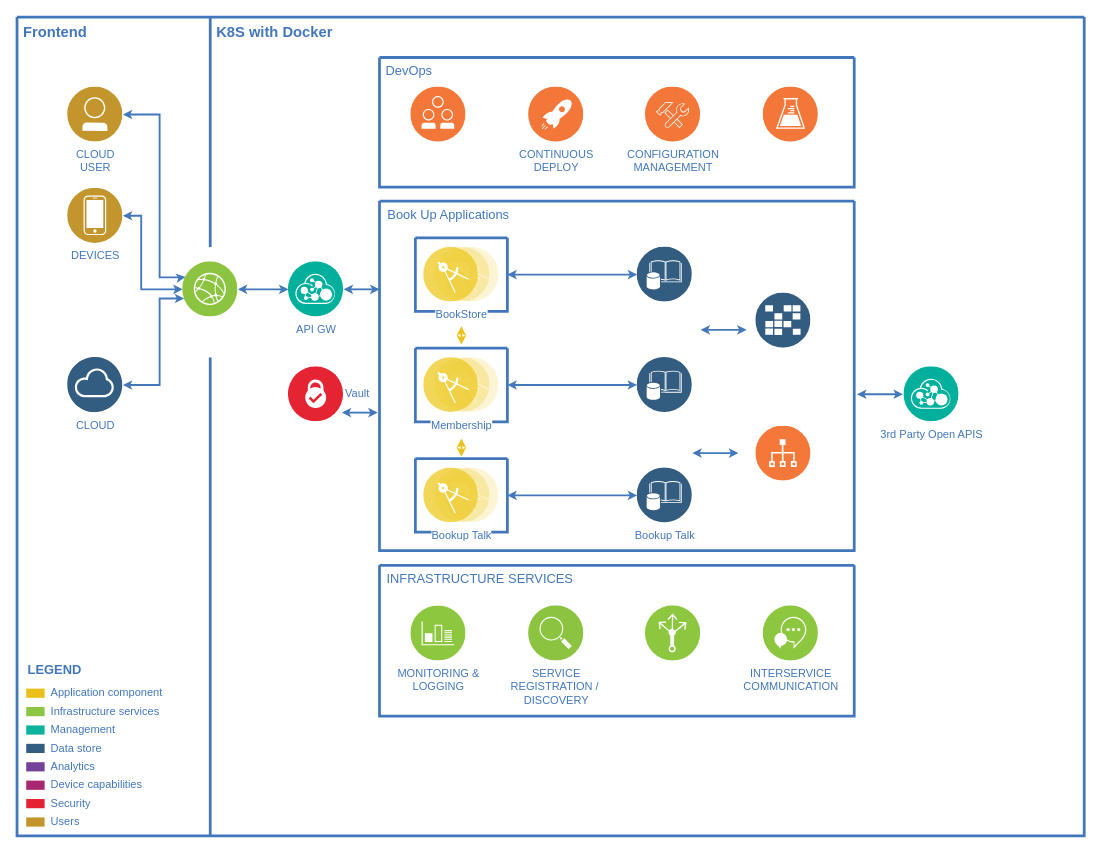
The diagram is 1101 pixels wide and 853 high, and some of its shapes have lost their labels. The shapes that lost their labels are listed below. From the top down, each one's centre as x and y in pixels, then its label:
At point 438,114: "COLLABORATIVE DEVELOPMENT".
At point 790,114: "CONTINUOUS TESTING".
At point 209,288: "EDGE SERVICES".
At point 664,274: "Book Store DB".
At point 783,320: "Caches".
At point 664,384: "Membership DB".
At point 783,453: "Message Brocker".
At point 672,633: "LOAD BALANCING ROUTING".
